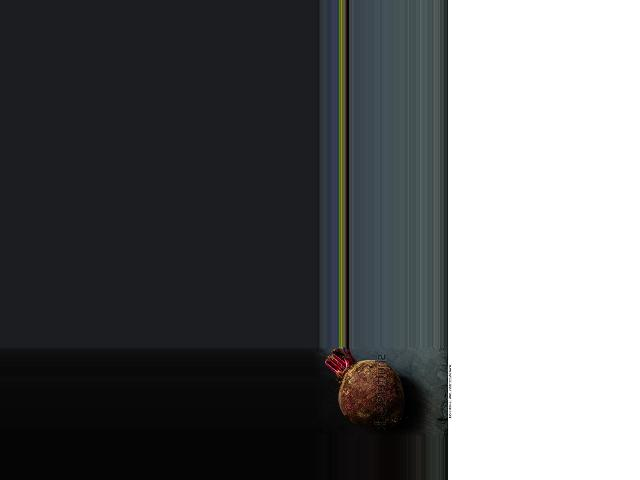beet: (325, 347, 404, 427)
